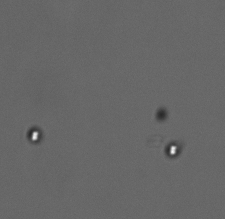Living Cell: (26, 126, 46, 144), (164, 141, 183, 159)
